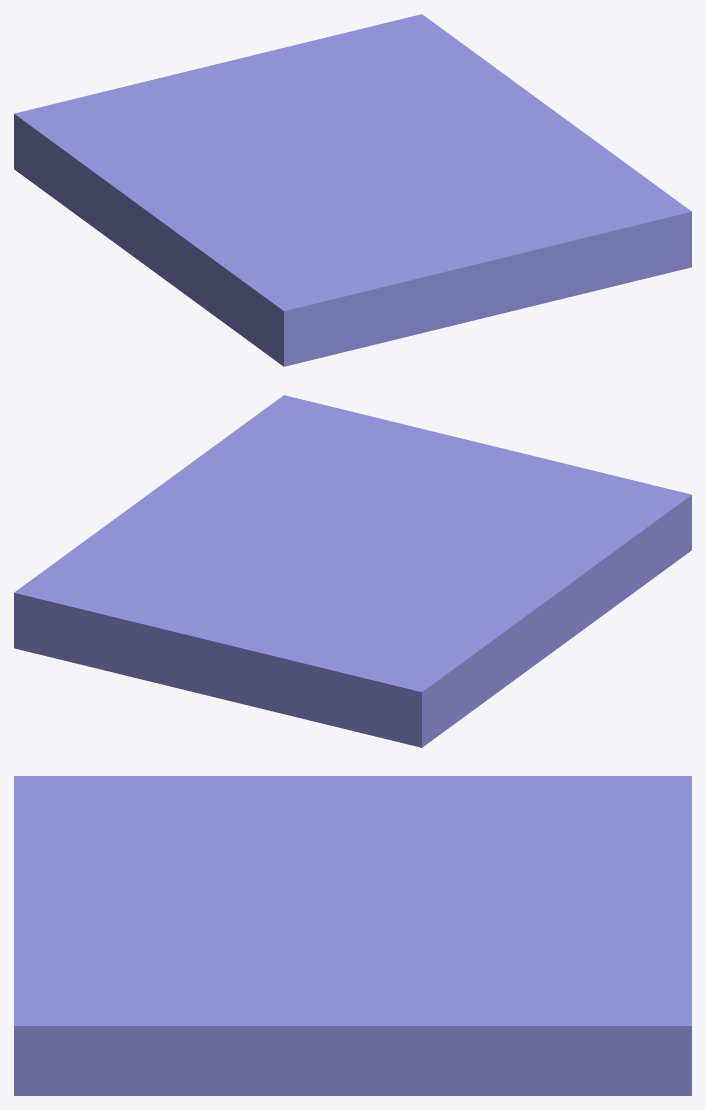
Rendered from RiverResidence_G_F_Collision.glb.
The picture shows the model from 3 angles, top to bottom: view 1: azimuth 30°, elevation 25°; view 2: azimuth 150°, elevation 25°; view 3: azimuth 270°, elevation 25°; orthographic projection. The views are drawn at different scales.
Visible parts, largest first — view 1: RiverResidence_G_F_Collision; view 2: RiverResidence_G_F_Collision; view 3: RiverResidence_G_F_Collision.
Part boxes in pixels (x1=…): RiverResidence_G_F_Collision: x1=14, y1=14, x2=691, y2=366; RiverResidence_G_F_Collision: x1=14, y1=395, x2=691, y2=747; RiverResidence_G_F_Collision: x1=14, y1=776, x2=691, y2=1095.
Size of the model in its own units: 21.9 by 2.85 by 25.1.
